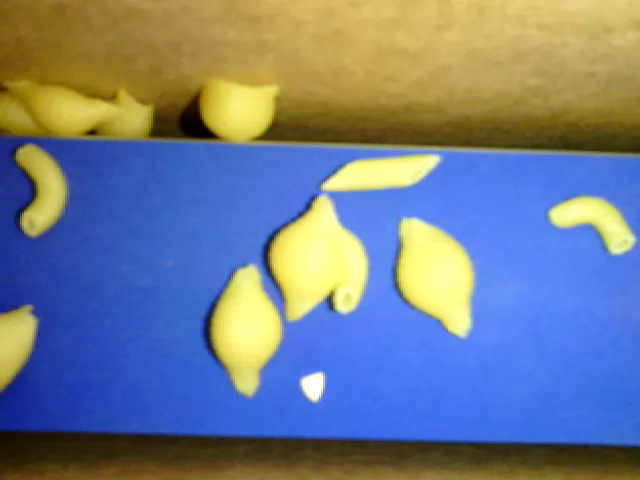elbow: (10, 144, 72, 232), (549, 196, 637, 254), (329, 228, 370, 311)
penne: (319, 156, 445, 191)
shell: (265, 193, 347, 322), (396, 217, 475, 340), (210, 263, 283, 394), (4, 80, 121, 133), (196, 74, 279, 146), (1, 305, 41, 400), (99, 88, 151, 136), (1, 94, 46, 134)
